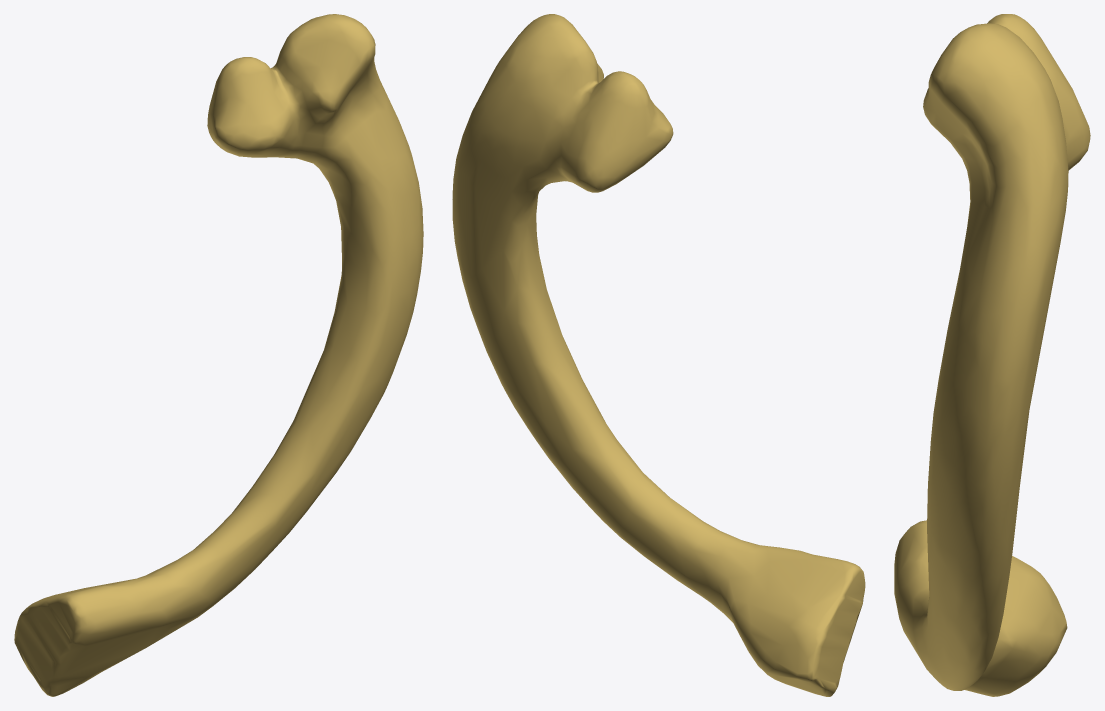
3 views of the same model, side by side, from view 1: azimuth 30°, elevation 25°; view 2: azimuth 150°, elevation 25°; view 3: azimuth 270°, elevation 25° (orthographic). The views are drawn at different scales.
Visible parts, largest first — view 1: 左侧视束; view 2: 左侧视束; view 3: 左侧视束.
Part boxes in pixels (x1,y1,x2,y2): 左侧视束: (14, 14, 423, 696); 左侧视束: (452, 14, 865, 696); 左侧视束: (894, 14, 1090, 696).
Bounding box in the file's own units: 0.0355 × 0.0541 × 0.0115.
